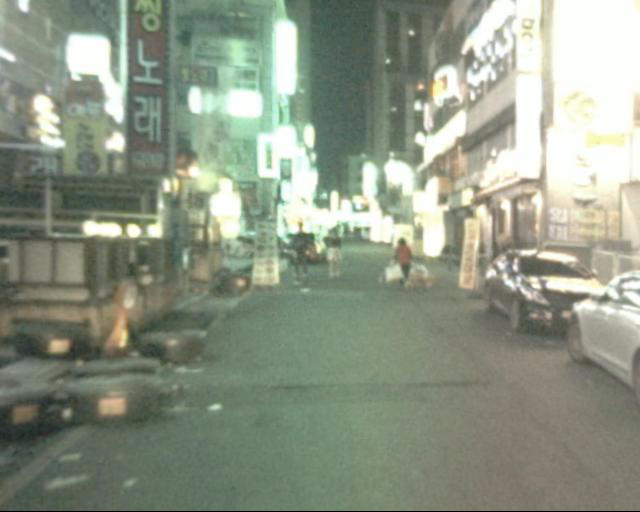person: (393, 235, 417, 287), (323, 229, 344, 278)
